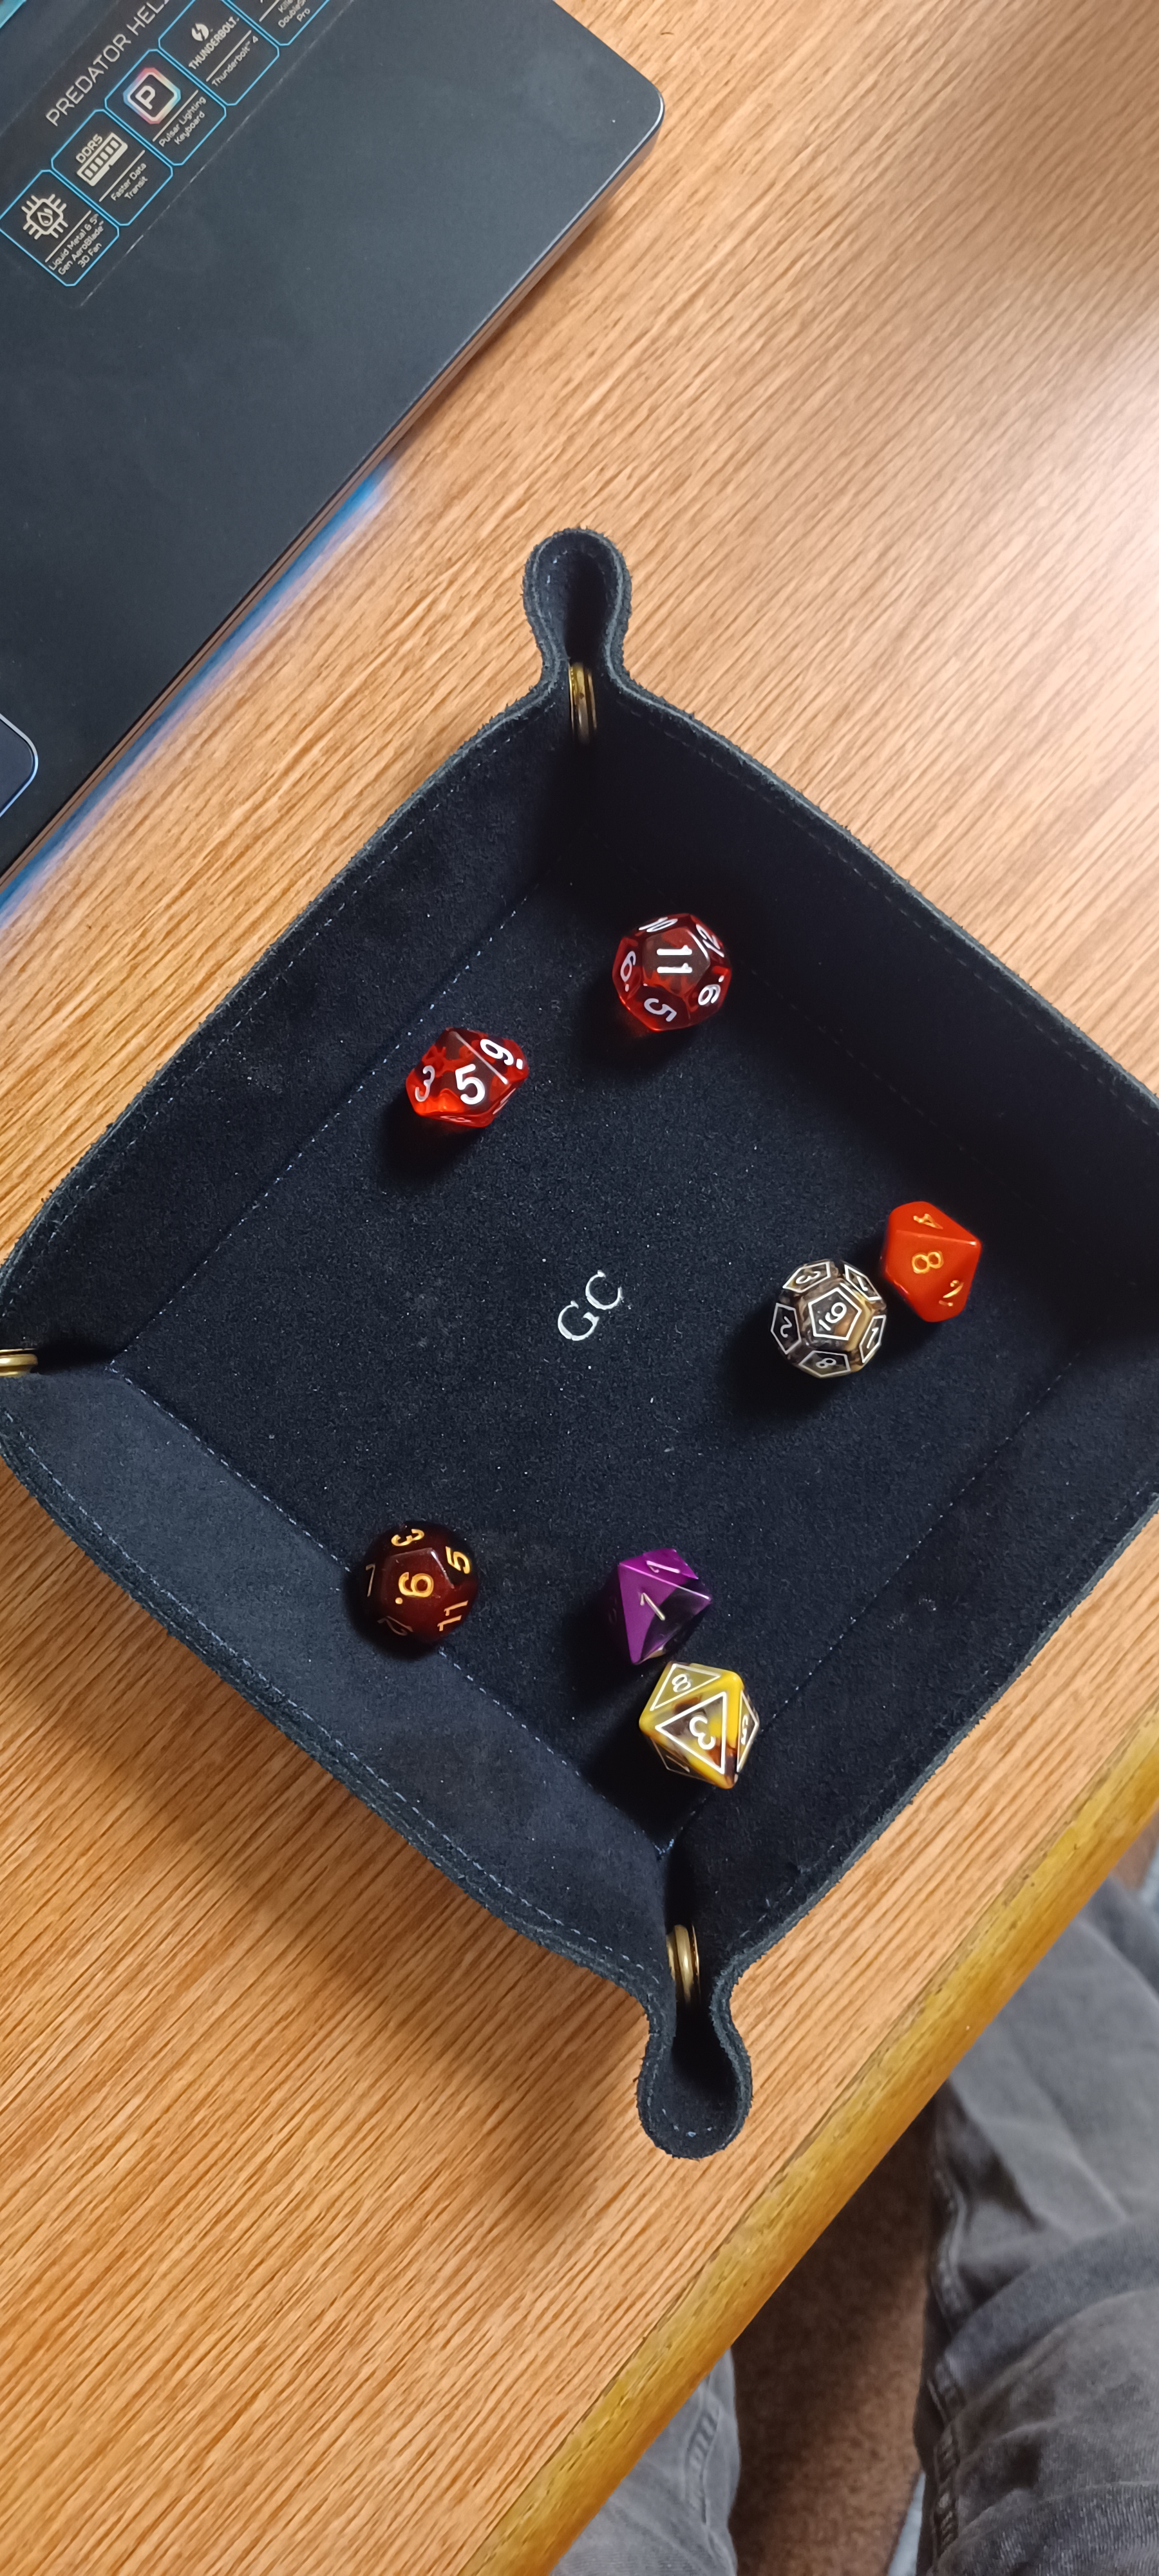eight: (864, 1181, 1011, 1344)
eleven: (586, 867, 762, 1061)
five: (383, 982, 547, 1145)
nine: (335, 1483, 491, 1667), (765, 1245, 903, 1401)
one: (575, 1518, 732, 1687)
three: (611, 1635, 796, 1825)
